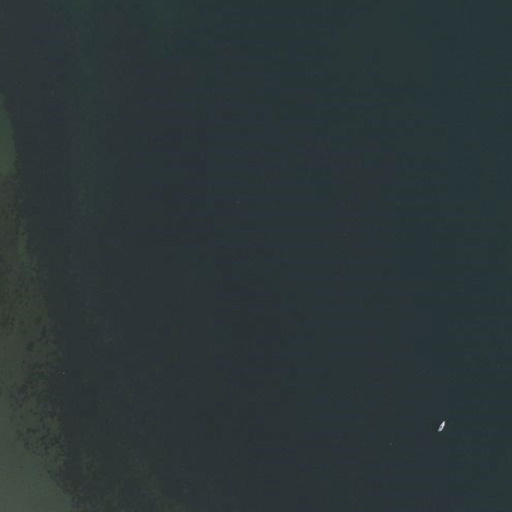ship: (437, 419, 446, 434)
